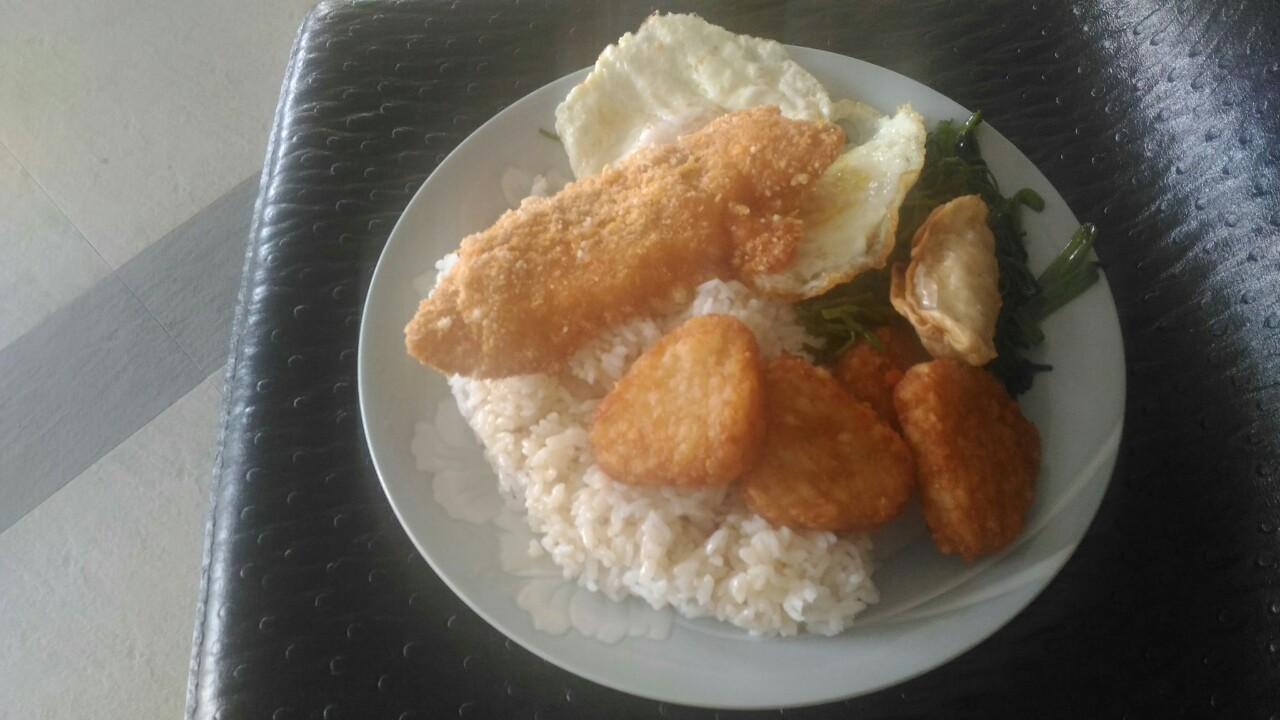fried_chicken: (423, 143, 817, 355)
fried_dumplings: (891, 196, 1007, 362)
fried_eggs: (575, 13, 912, 291)
rice: (540, 445, 788, 616)
triangle_hash_brown: (601, 318, 1044, 560)
water_spinach: (921, 122, 1004, 207)
